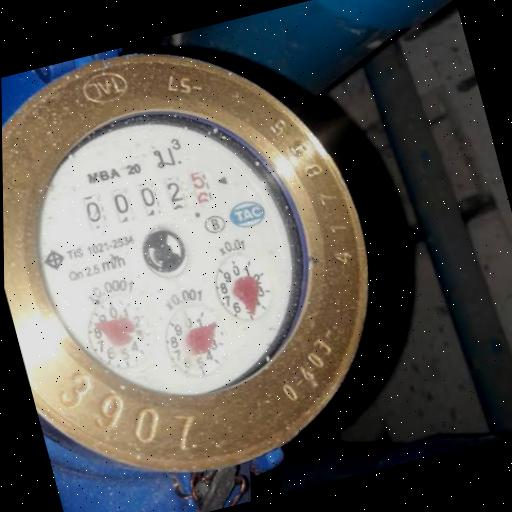0: (135, 179, 163, 219), (80, 191, 108, 230), (109, 186, 136, 224)
2: (162, 174, 189, 213)
5: (187, 168, 215, 207)
border_water_meter_number: (76, 163, 222, 236)
